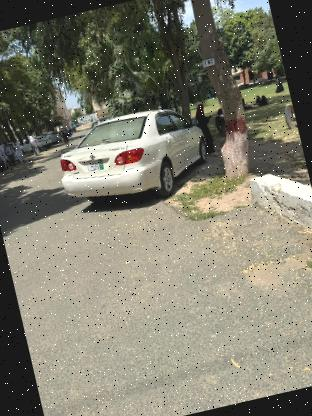car: (40, 91, 220, 225)
